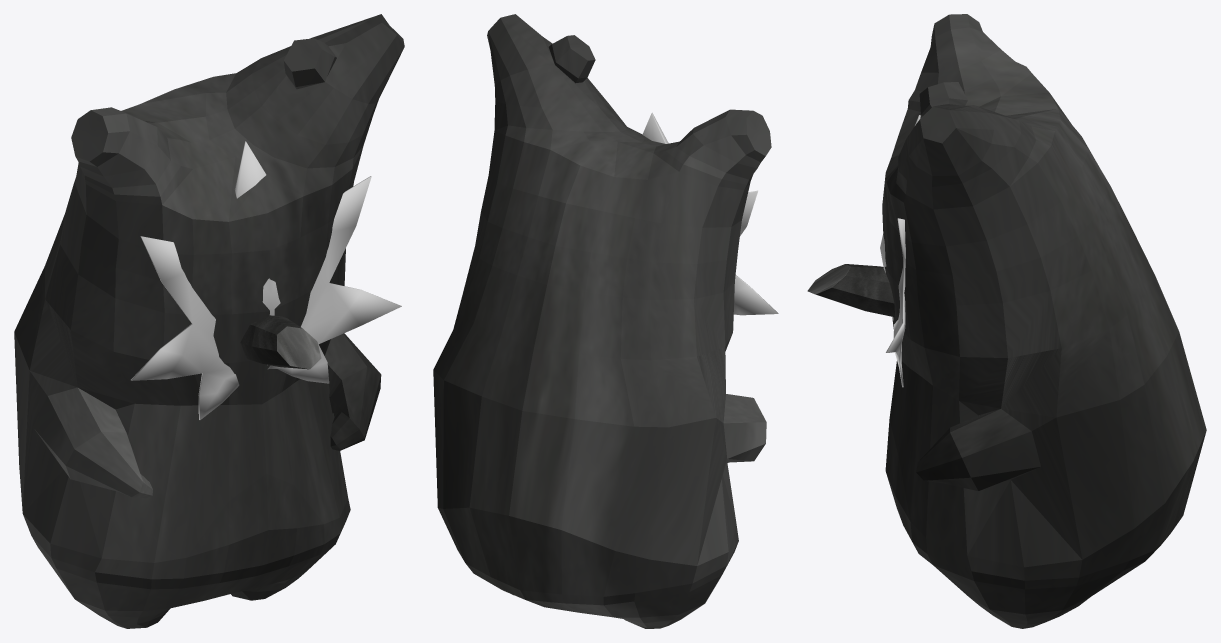
Rendered from frame_0005.obj.
The picture shows the model from 3 angles, left to right: view 1: azimuth 30°, elevation 25°; view 2: azimuth 150°, elevation 25°; view 3: azimuth 270°, elevation 25°; orthographic projection. The views are drawn at different scales.
Parts seen in each view (by area): view 1: korok, leaf.003_柱体.013, nose.003_柱体.011; view 2: korok, leaf.003_柱体.013; view 3: korok, nose.003_柱体.011, leaf.003_柱体.013.
Part boxes in pixels (bbox=[...]): korok: bbox=[14, 14, 404, 628]; leaf.003_柱体.013: bbox=[131, 141, 401, 419]; nose.003_柱体.011: bbox=[240, 315, 321, 369]; korok: bbox=[433, 14, 771, 628]; leaf.003_柱体.013: bbox=[642, 112, 778, 315]; korok: bbox=[882, 14, 1206, 628]; nose.003_柱体.011: bbox=[807, 264, 895, 317]; leaf.003_柱体.013: bbox=[880, 115, 920, 387].
Size of the model in its own units: 1.26 by 2.21 by 1.44.
